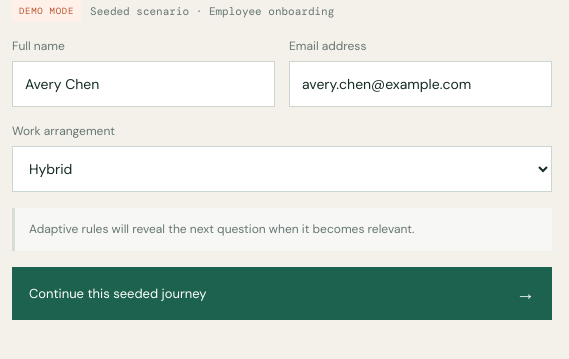
Scenario: DemoForm › reveals the remote onboarding rule when selected
Step 1. Select "Remote" in the dropdown labelled "Work arrangement" → (282, 169), box [12,146,552,192]
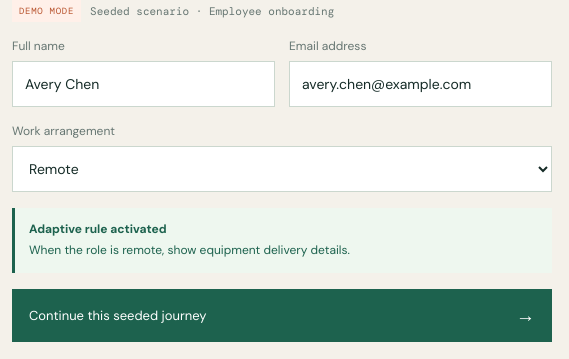
expect the message shows "equipment delivery": met, box [29,242,350,258]
